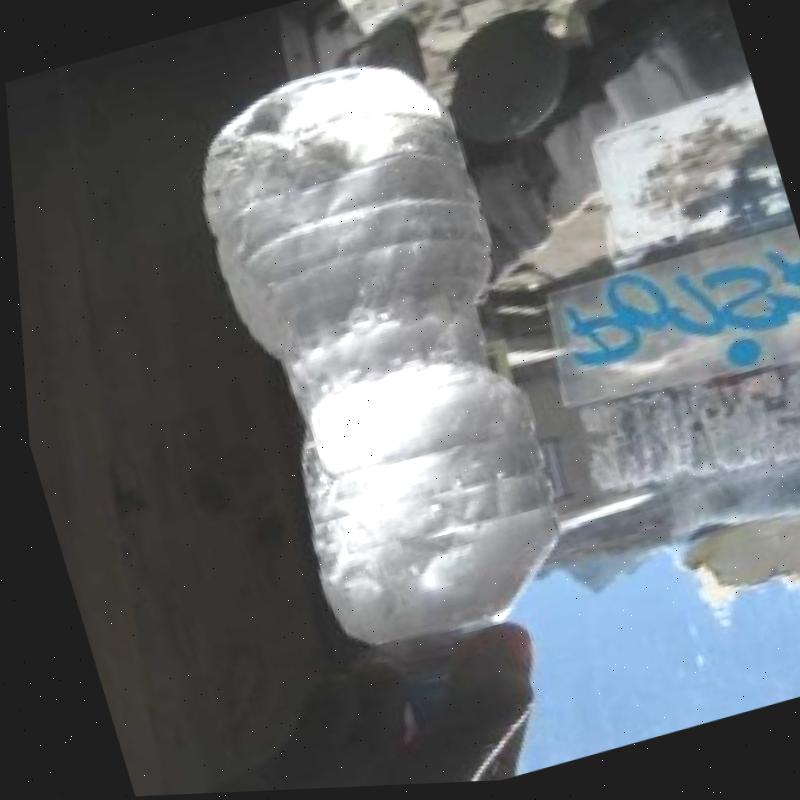botella: (162, 38, 615, 757)
